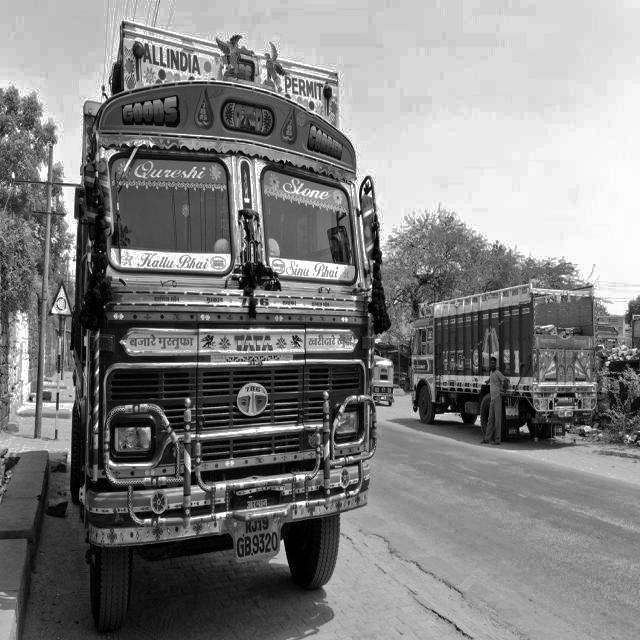HCV: (59, 17, 405, 635)
